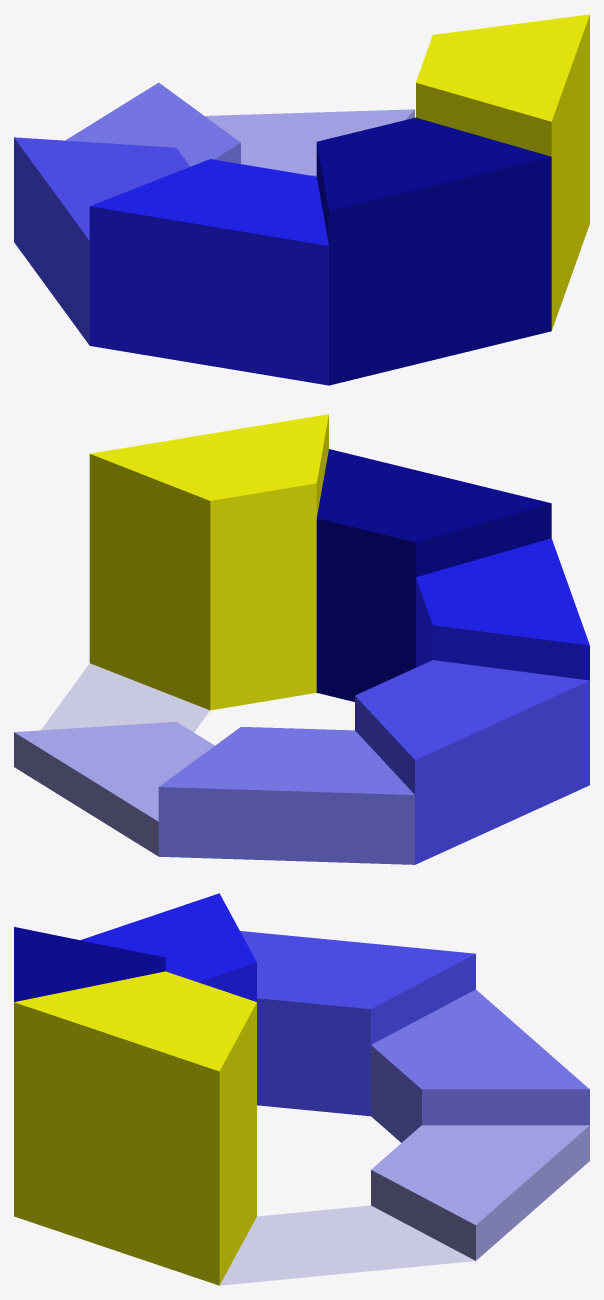
File: whoIsTheMost 2.fbx
3 views of the same model, one above another, from view 1: azimuth 30°, elevation 25°; view 2: azimuth 150°, elevation 25°; view 3: azimuth 270°, elevation 25° (orthographic). The views are drawn at different scales.
Visible parts, largest first — view 1: Cube; view 2: Cube; view 3: Cube.
Boxes of the visible parts, left/top/right/bottom form: Cube: left=14, top=14, right=589, bottom=385; Cube: left=14, top=414, right=589, bottom=864; Cube: left=14, top=893, right=589, bottom=1285.
Size of the model in its own units: 438 by 175 by 427.
